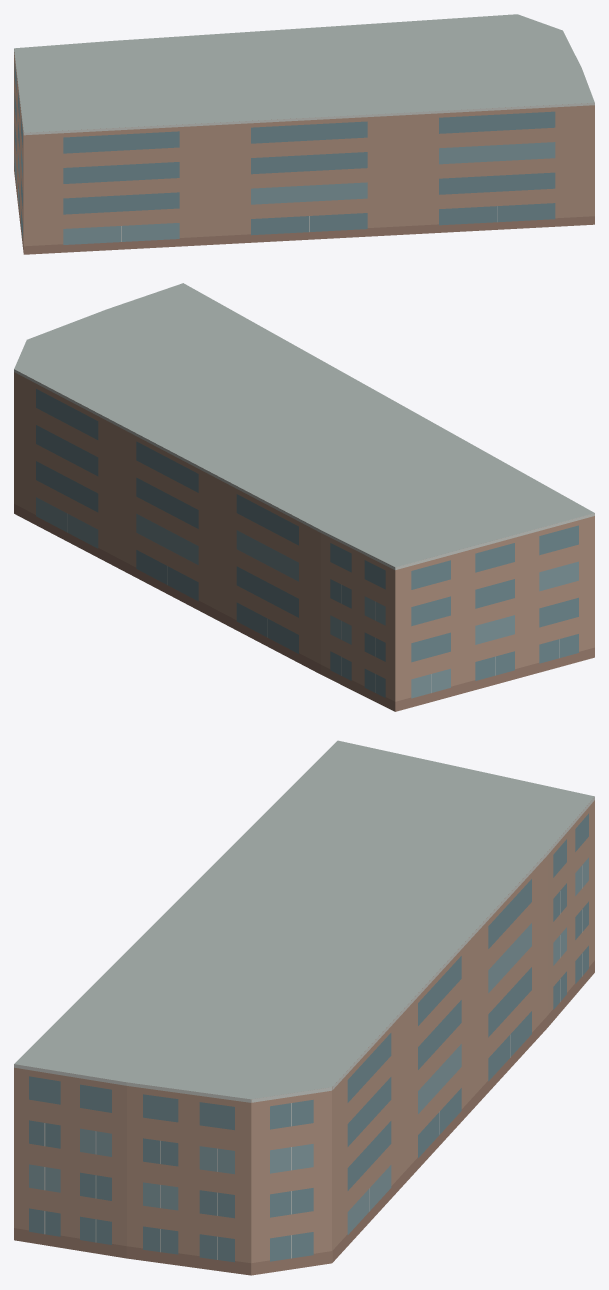
Rendered from survey-upis-32473221.glb.
3 views of the same model, one above another, from view 1: azimuth 30°, elevation 25°; view 2: azimuth 150°, elevation 25°; view 3: azimuth 270°, elevation 25° (orthographic). The views are drawn at different scales.
Parts seen in each view (by area): view 1: survey-upis-32473221.tmp; view 2: survey-upis-32473221.tmp; view 3: survey-upis-32473221.tmp.
Part boxes in pixels (x1,y1,x2,y2): survey-upis-32473221.tmp: (14,14,594,254); survey-upis-32473221.tmp: (14,283,594,711); survey-upis-32473221.tmp: (14,740,594,1275).
Bounding box in the file's own units: 53.32 × 12.2 × 36.47.
